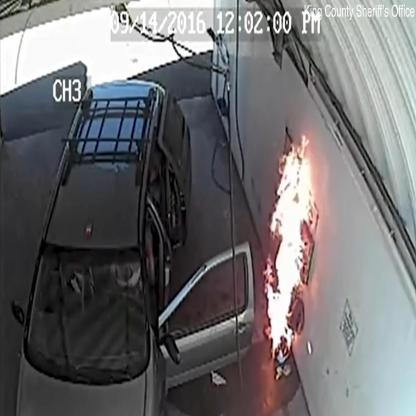fire: (265, 134, 314, 360)
